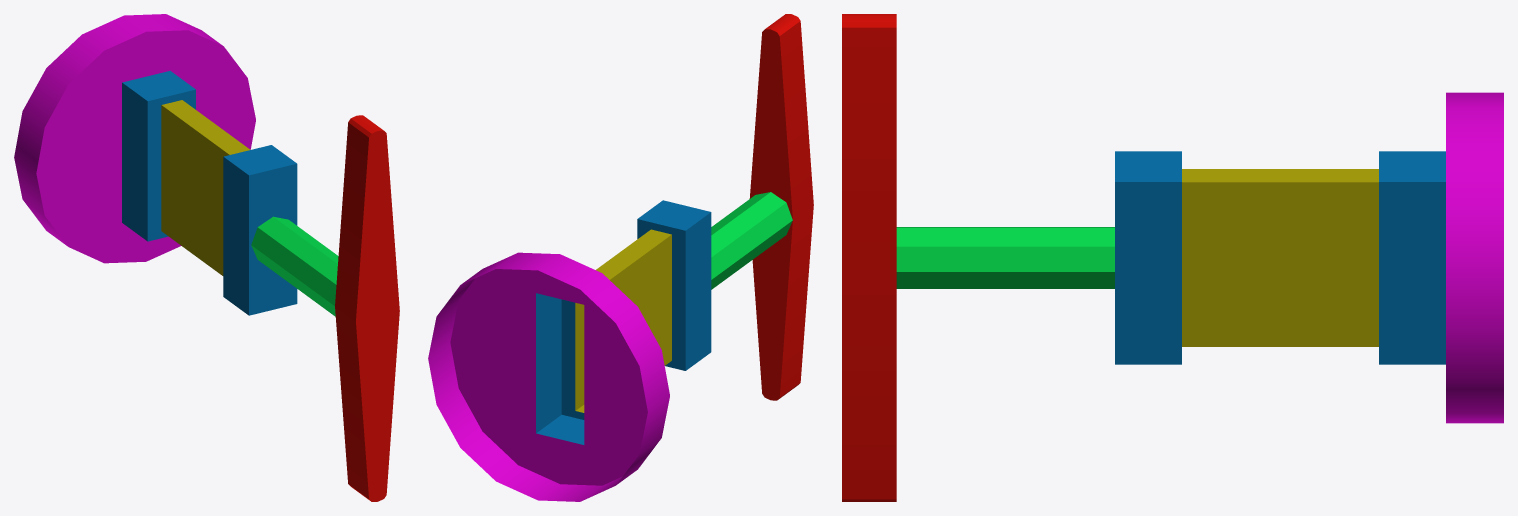
The model's file is mirror.fbx.
The picture shows the model from 3 angles, left to right: view 1: azimuth 30°, elevation 25°; view 2: azimuth 150°, elevation 25°; view 3: azimuth 270°, elevation 25°; orthographic projection. The views are drawn at different scales.
Visible parts, largest first — view 1: Mirror; view 2: Mirror; view 3: Mirror.
Part boxes in pixels (<box>): Mirror: <box>14,14,399,501</box>; Mirror: <box>428,14,813,501</box>; Mirror: <box>842,14,1503,501</box>.
Bounding box in the file's own units: 20 × 32.25 × 40.
